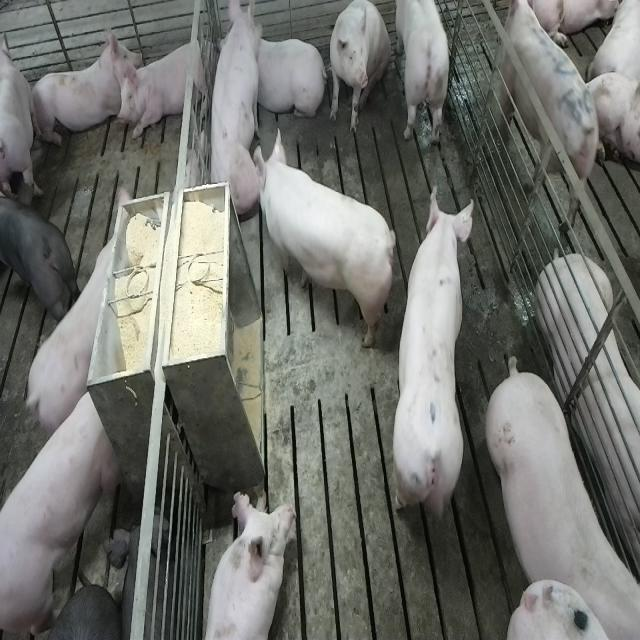Feeding: (256, 129, 398, 351)
Sitting: (205, 4, 262, 224), (328, 2, 392, 138)
Standing: (383, 194, 468, 546), (2, 387, 122, 634), (492, 0, 600, 226), (23, 247, 105, 447), (0, 186, 74, 330), (391, 2, 450, 154)
Sternal_lying: (538, 247, 640, 580), (29, 18, 139, 148), (201, 489, 294, 640), (116, 31, 214, 141), (250, 33, 324, 123)
